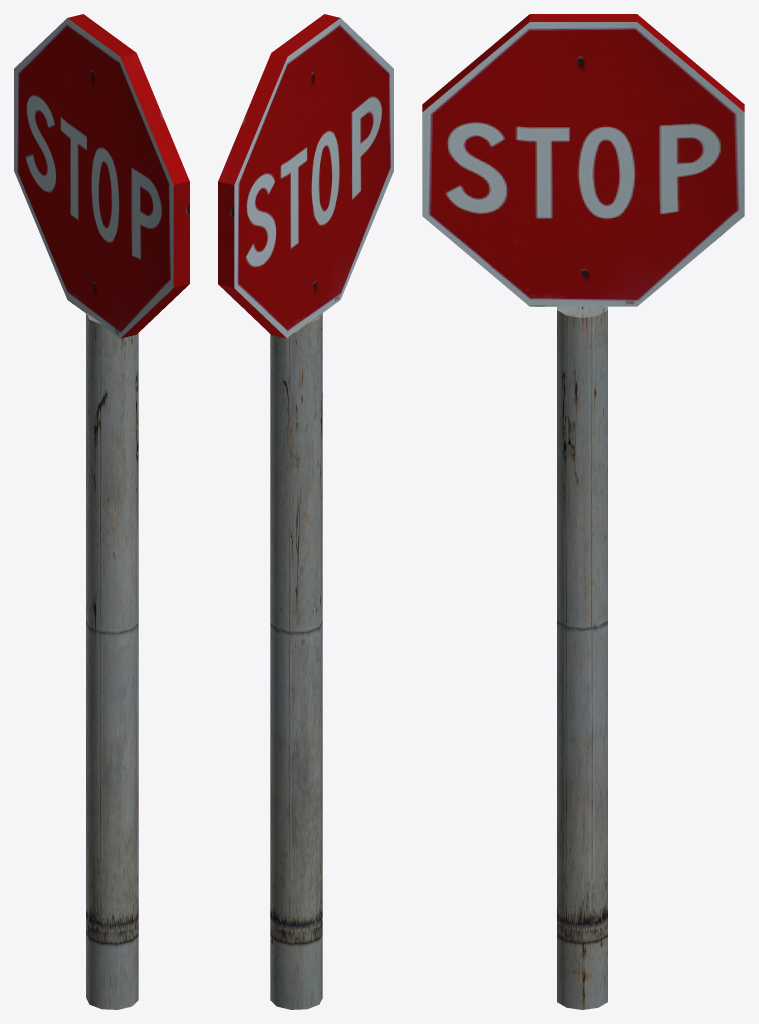
Rendered from sign16.FBX.
3 views of the same model, side by side, from view 1: azimuth 30°, elevation 25°; view 2: azimuth 150°, elevation 25°; view 3: azimuth 270°, elevation 25° (orthographic).
Parts seen in each view (by area): view 1: Cylinder002; view 2: Cylinder002; view 3: Cylinder002.
Part boxes in pixels (bbox=[...]): Cylinder002: bbox=[14, 14, 189, 1009]; Cylinder002: bbox=[218, 14, 393, 1009]; Cylinder002: bbox=[422, 14, 744, 1009].
Bounding box in the file's own units: 1.4 × 28.22 × 8.45.
